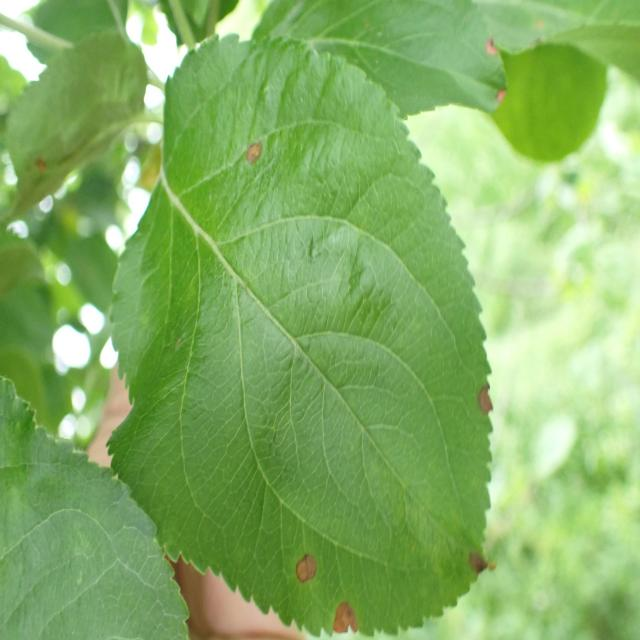Black Rot: (318, 575, 364, 640), (286, 525, 322, 606), (456, 525, 498, 590), (232, 126, 270, 196), (475, 370, 506, 453), (469, 32, 504, 66)
